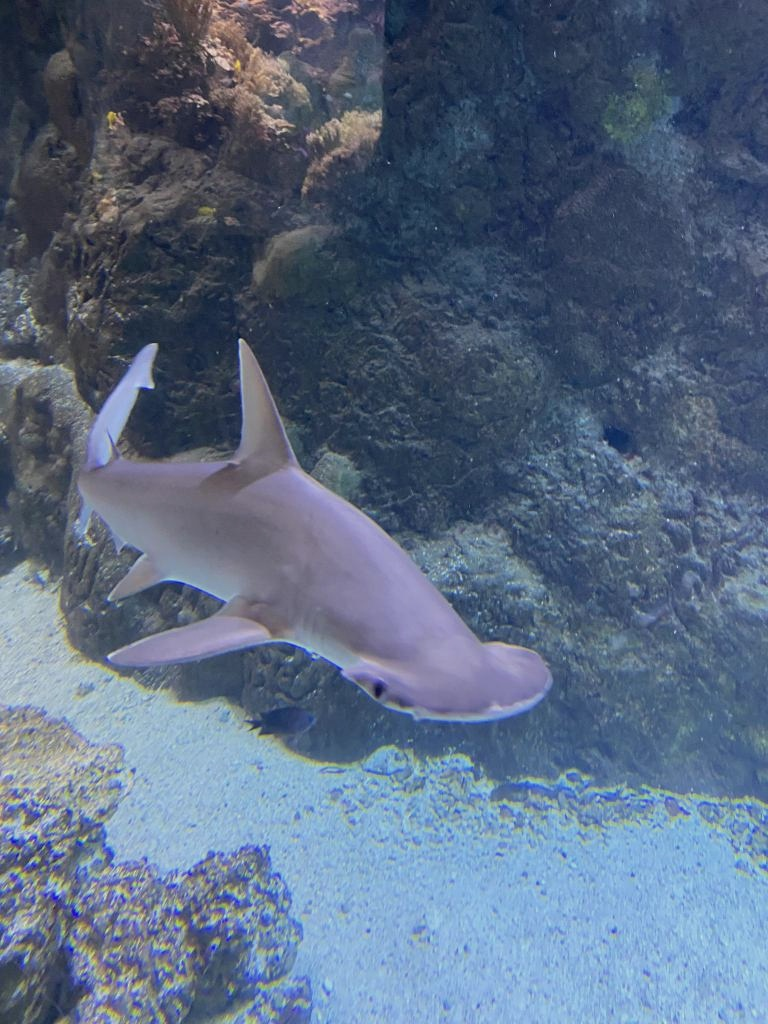shark: (76, 336, 552, 742)
